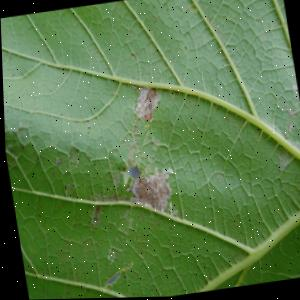Folha: (0, 0, 300, 300)
Fungo: (110, 82, 178, 218), (123, 164, 176, 217), (128, 83, 163, 125), (84, 190, 119, 228), (116, 161, 143, 189), (65, 145, 81, 167), (109, 168, 122, 189), (102, 246, 115, 265), (61, 182, 75, 198), (53, 155, 62, 167), (65, 151, 71, 157)
